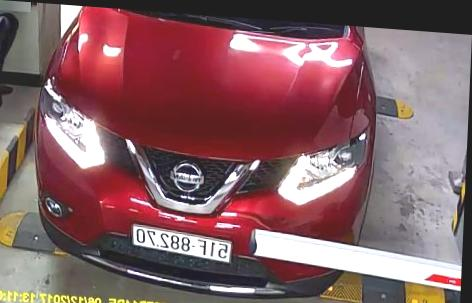License_Plate: (123, 217, 237, 266)
